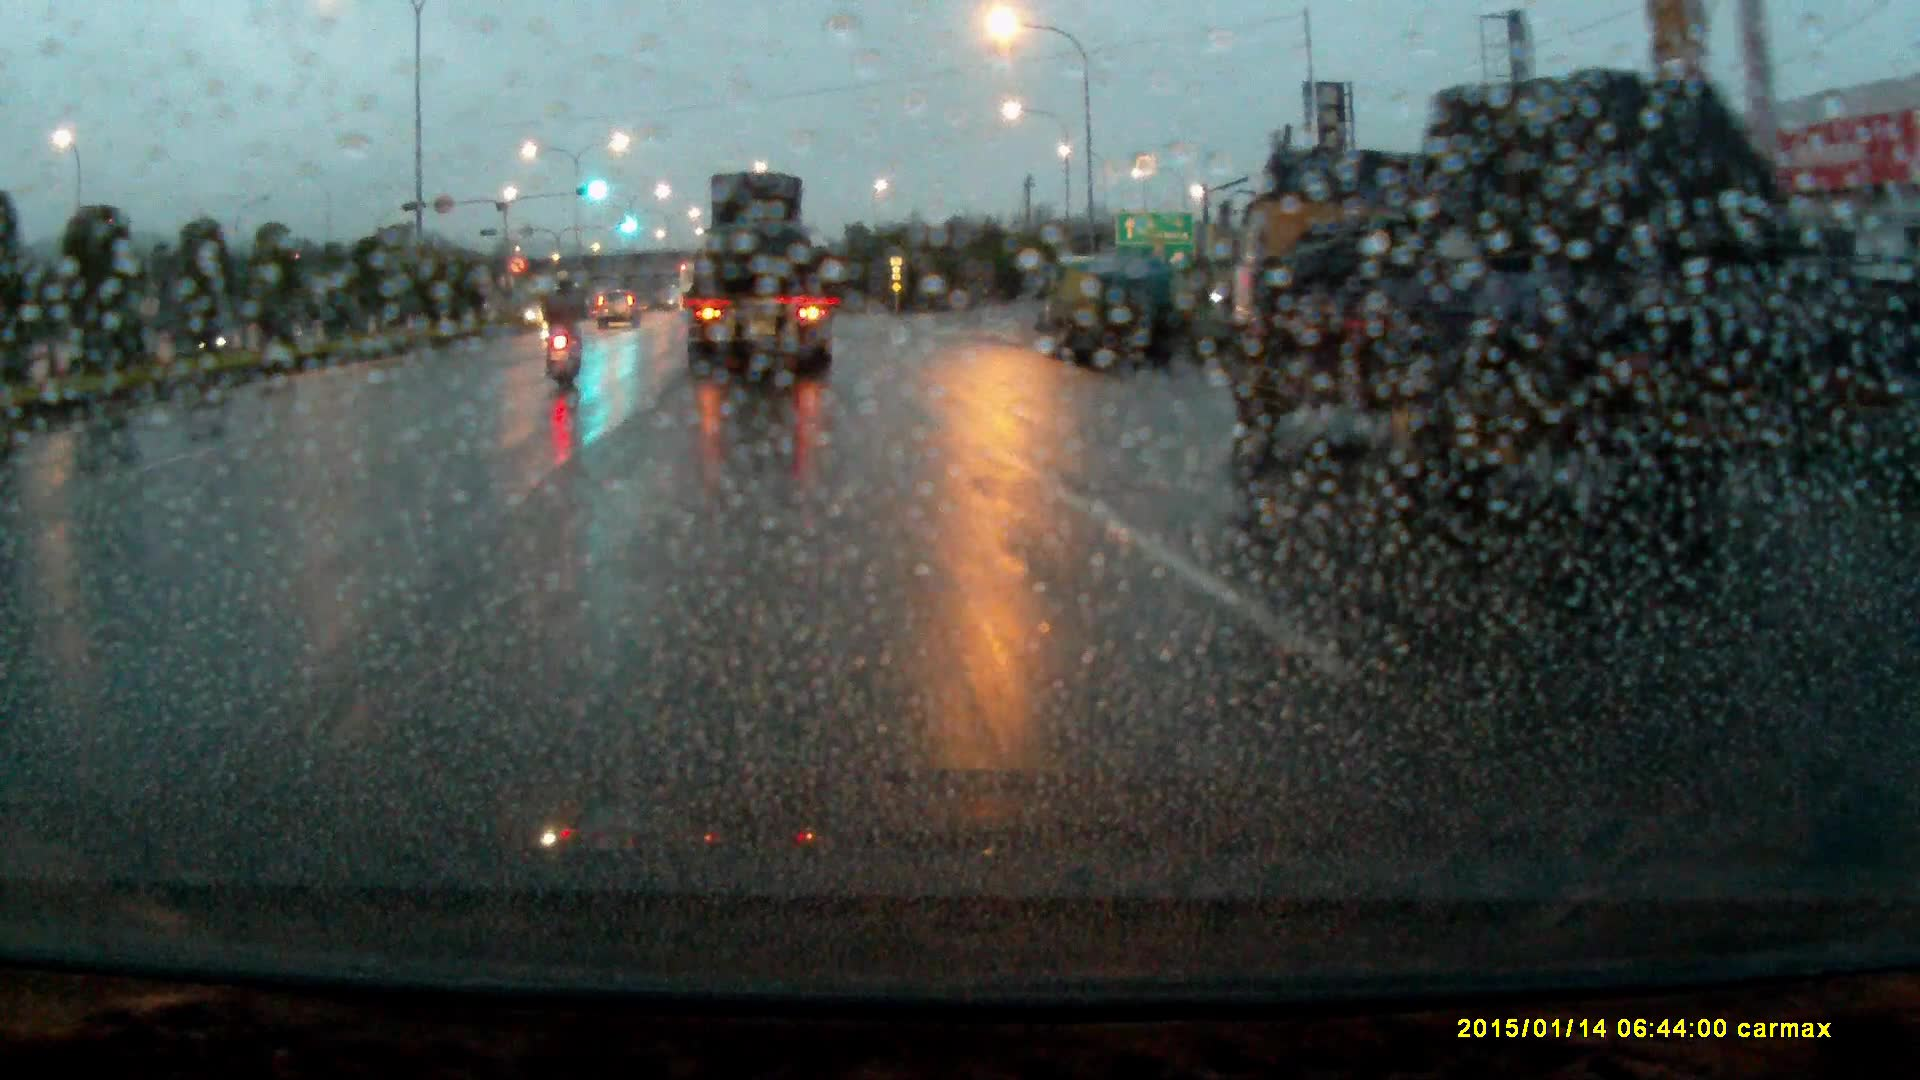rider: (540, 272, 592, 397)
vehicle: (1227, 74, 1873, 522), (679, 172, 837, 387), (1028, 260, 1189, 365), (599, 293, 644, 336), (678, 263, 703, 312)
